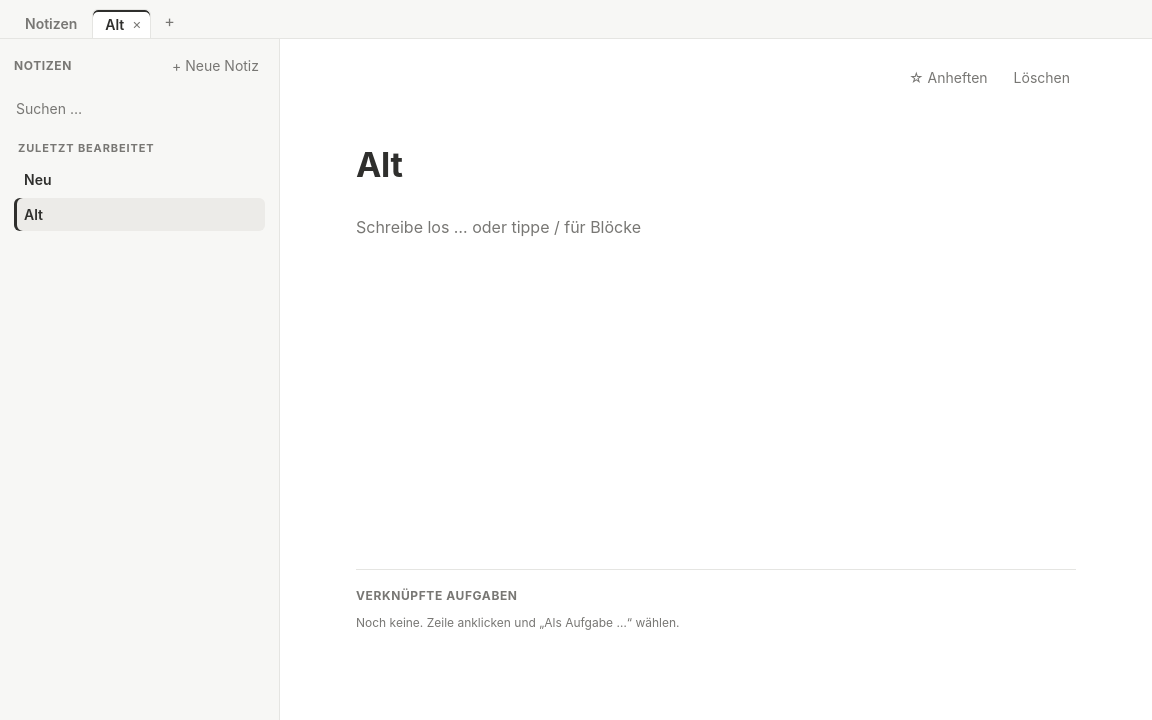
Test: NotizenView › heftet Notizen an und zeigt sie in einer eigenen Gruppe zuerst
This screenshot has width=1152, height=720.
Expected: the text "Angeheftet" is not shown
Click the button "☆ Anheften". click: (948, 78)
box: [903,67,994,88]
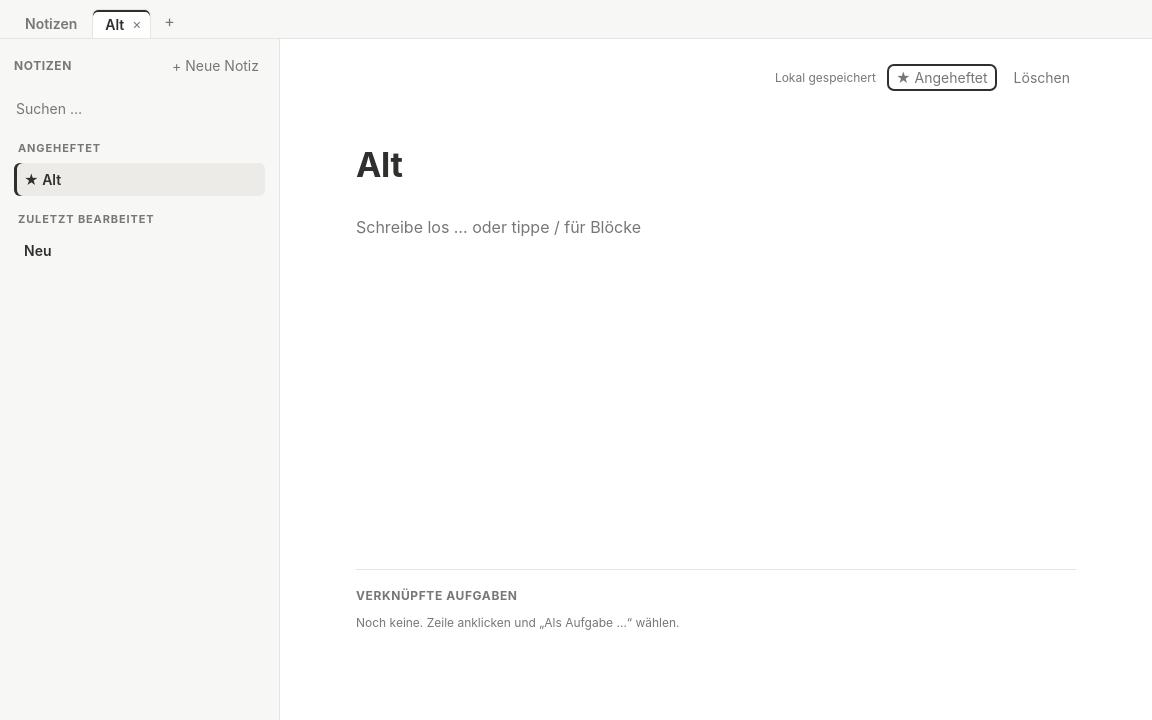
Now the heading "Angeheftet" is shown, box [18,141,101,155]
Now the list items read "★ Alt", "Neu", in this order, box [14,163,265,196]; [14,234,265,267]
Now the button "★ Angeheftet" is shown, box [890,67,994,88]
